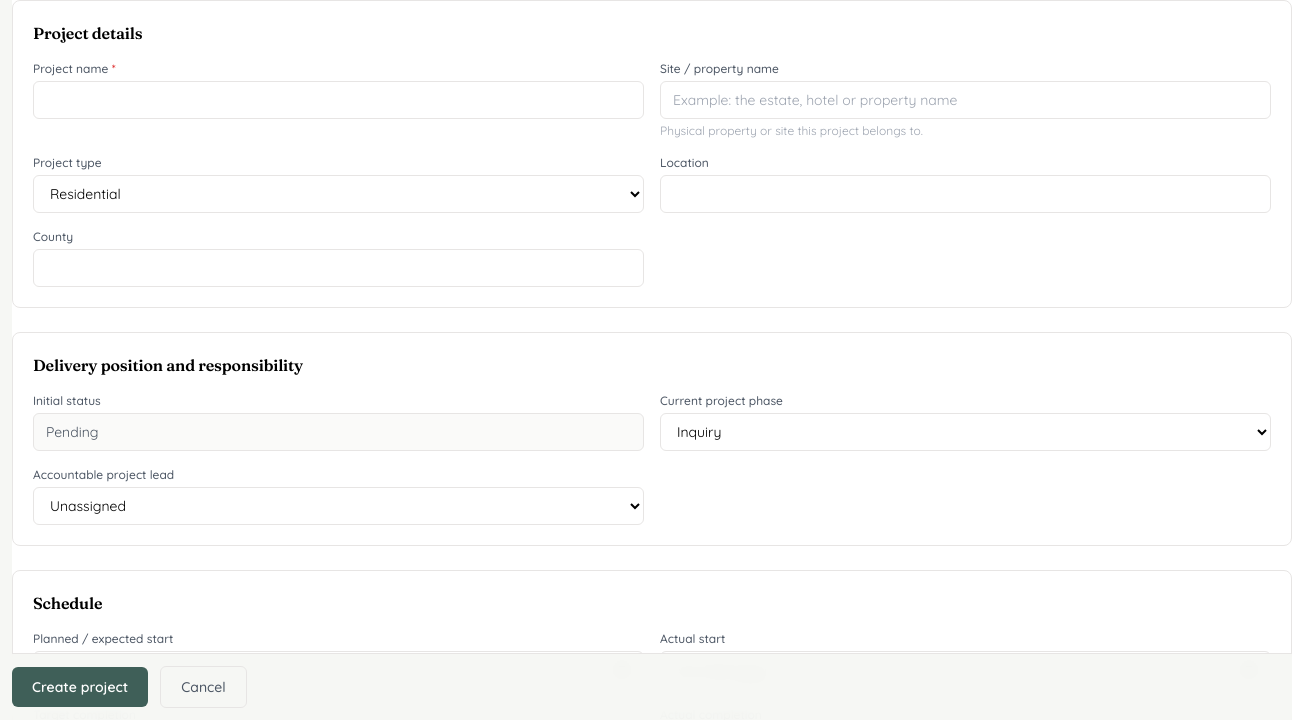
Test: save feedback › blocks duplicate submission while a write is pending
This screenshot has width=1292, height=720.
Type "One submission" into the field labelled "Project name *" at {"x": 338, "y": 100}, box [33,81,644,119]
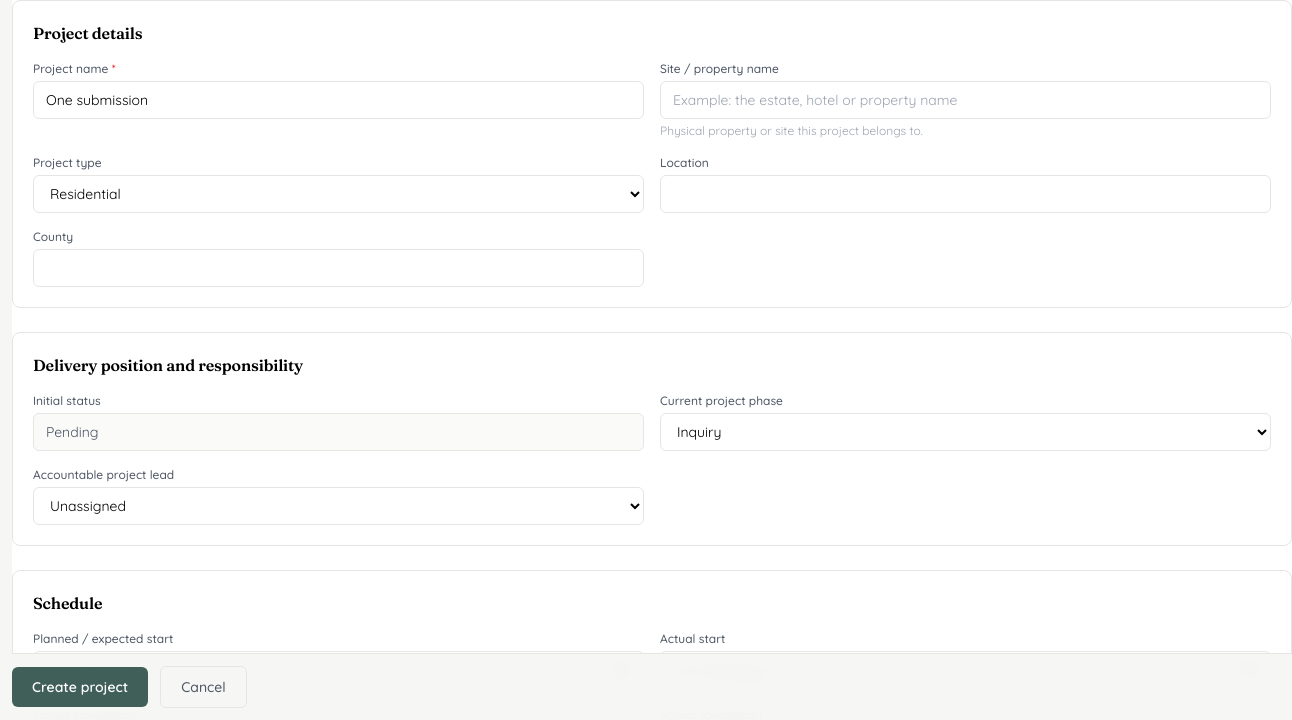
Click the button "Create project" at {"x": 80, "y": 687}, box [12,667,148,707]
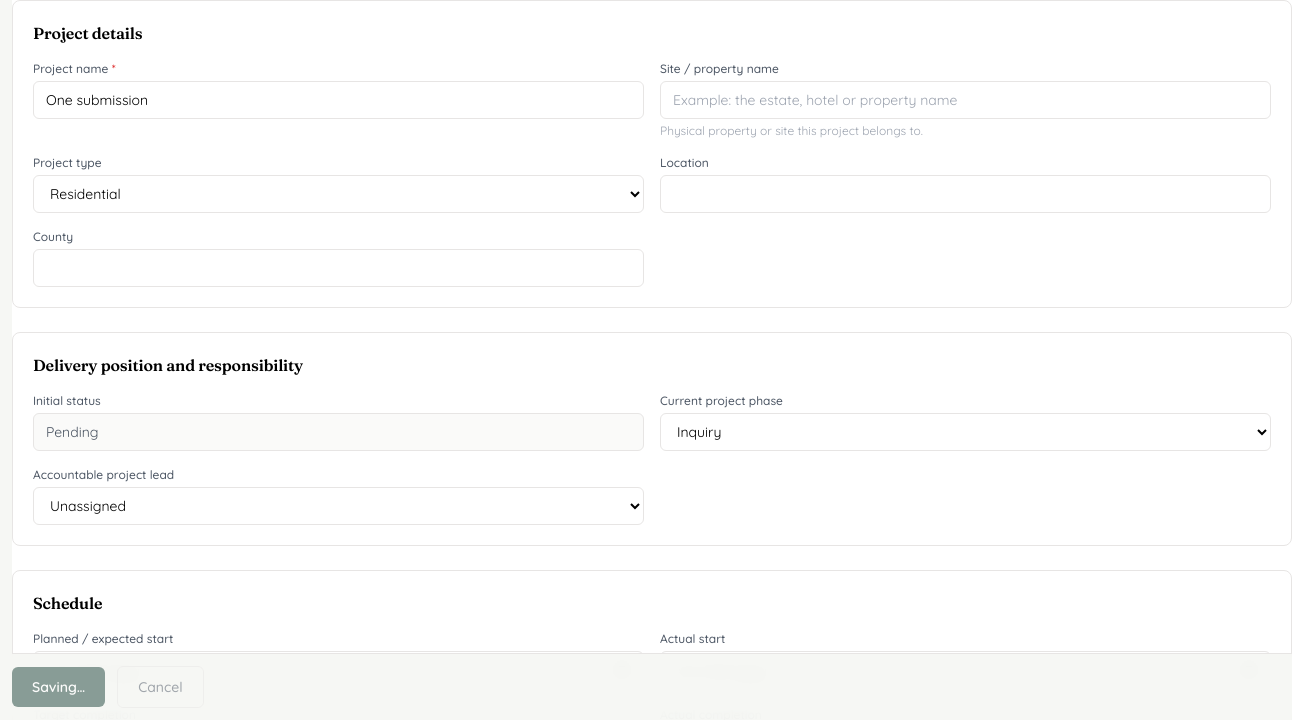
Click the button named "Create project" at {"x": 59, "y": 687}, box [12,667,105,707]
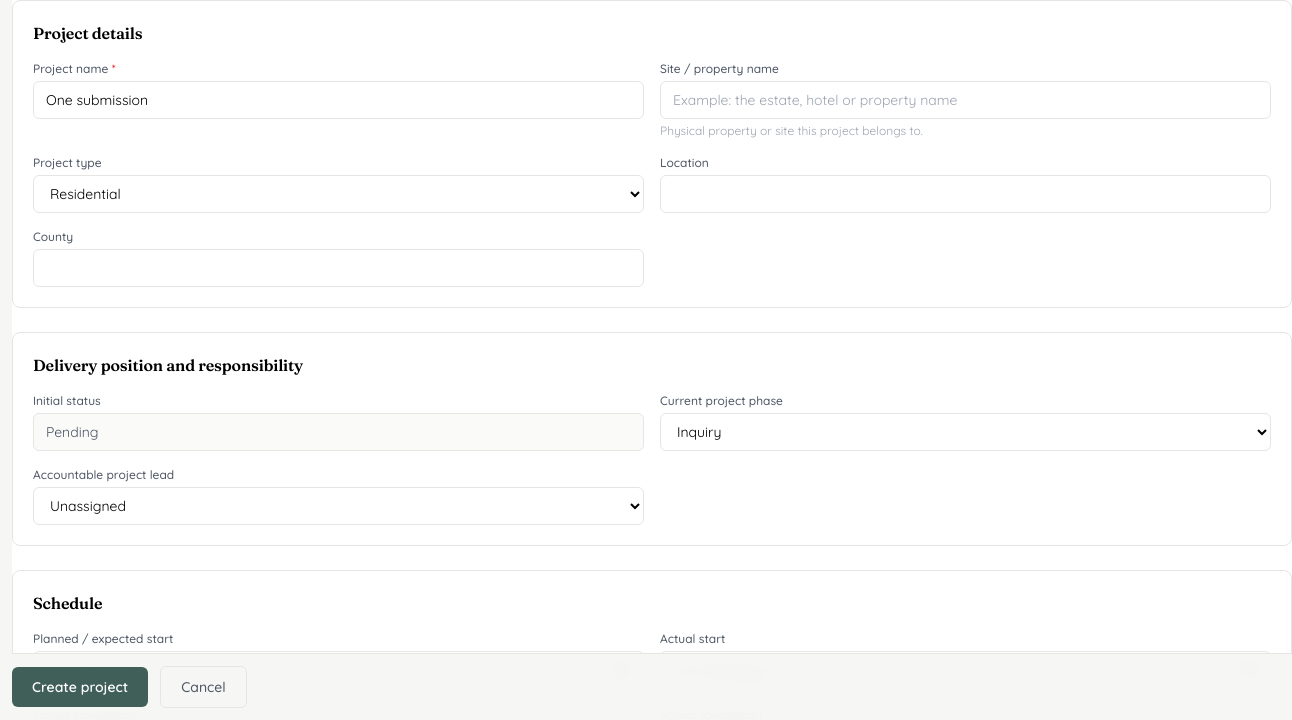
Check: the button "Create project" is enabled, box [12,667,148,707]
